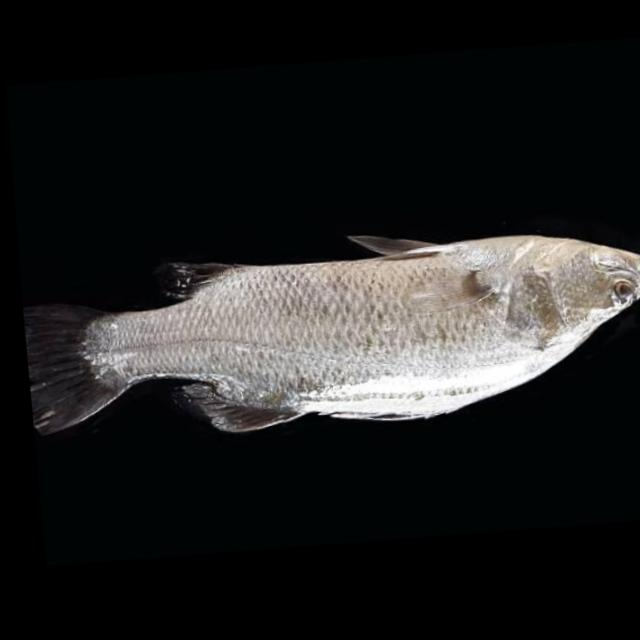Seabass: (18, 207, 640, 450)
